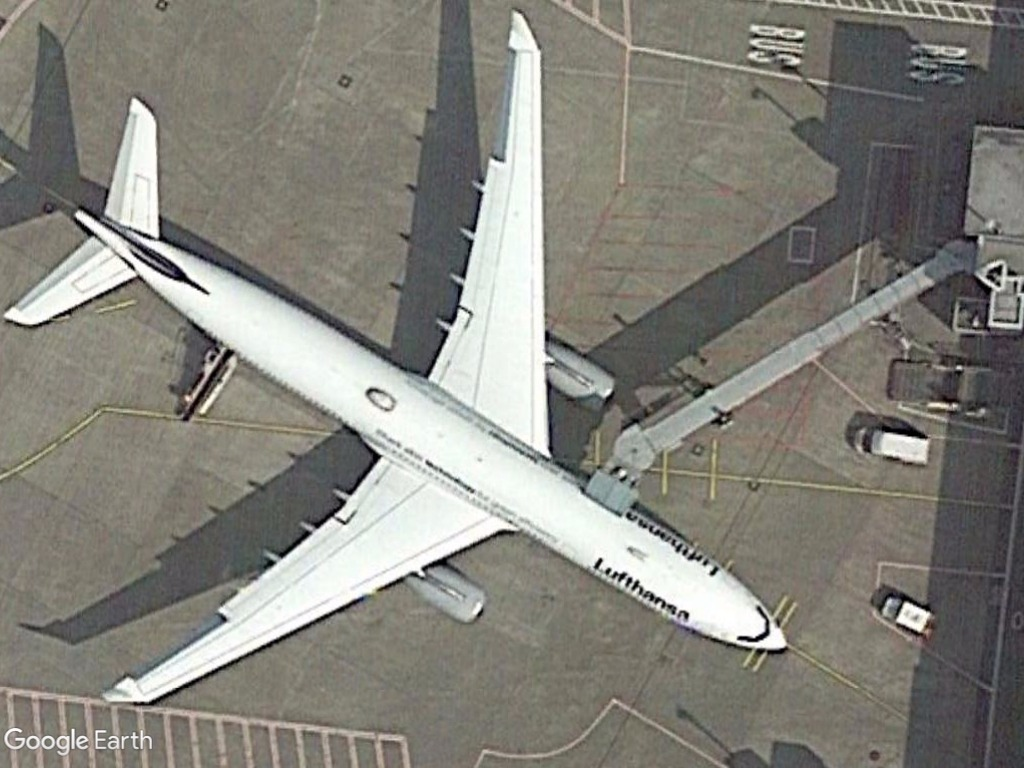airliner: (7, 4, 790, 713)
van: (850, 421, 935, 470)
